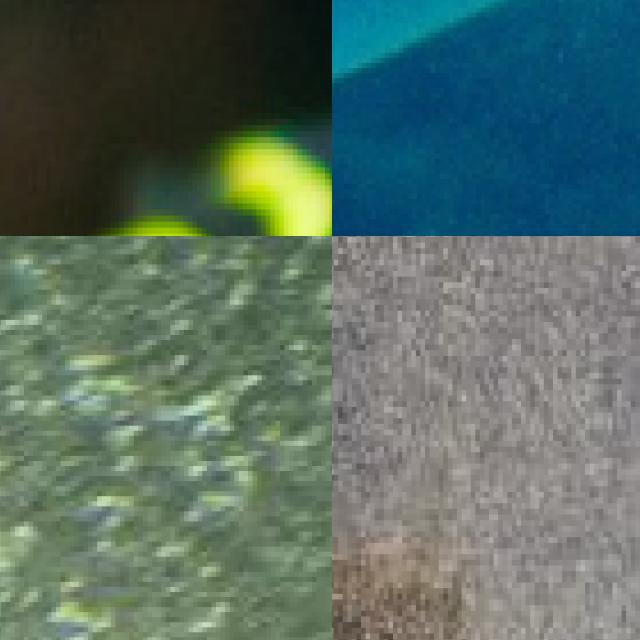fish: (0, 0, 332, 236), (0, 501, 332, 640)
